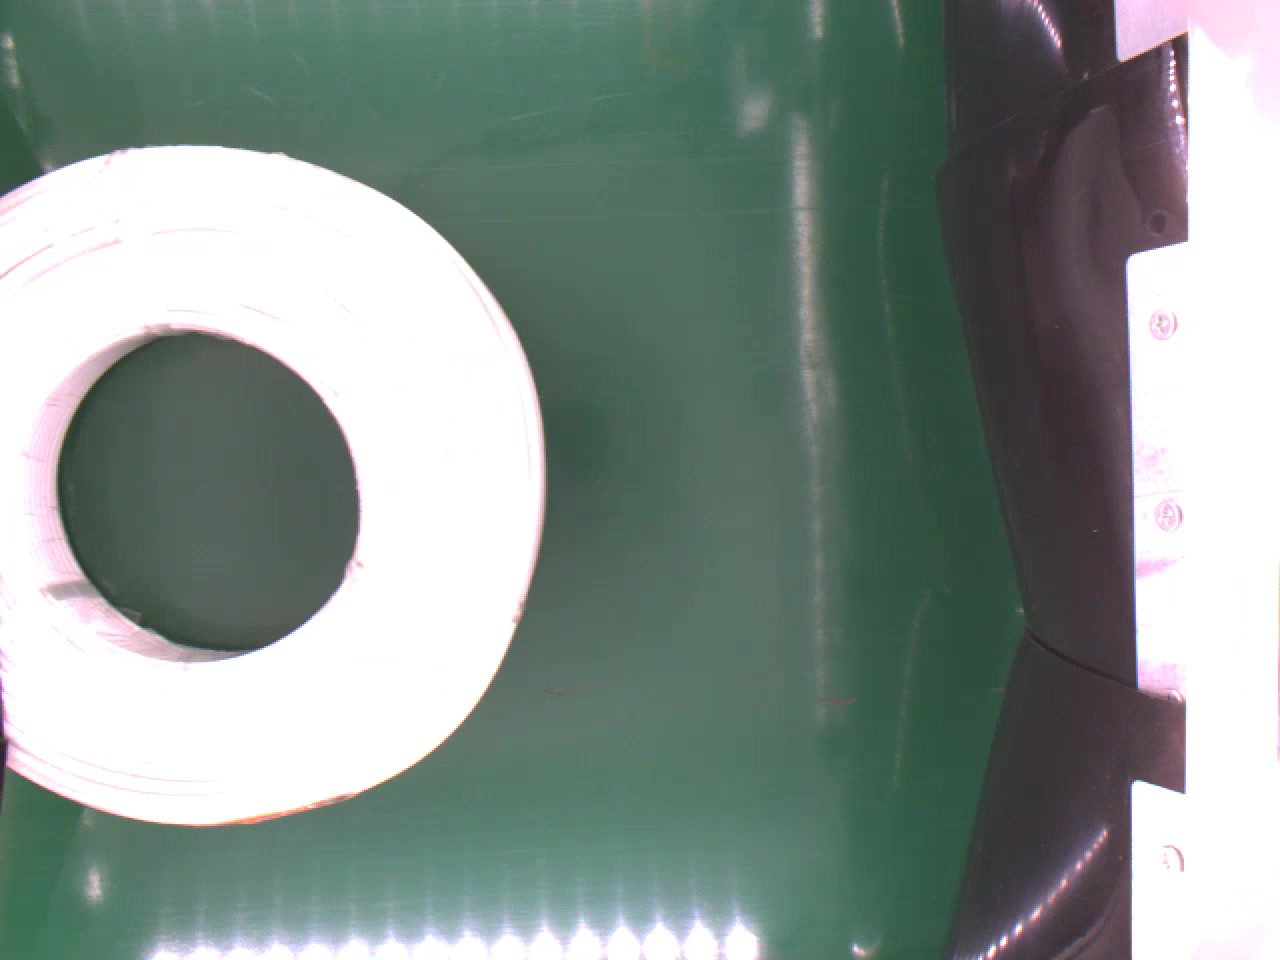white: (0, 142, 543, 836)
